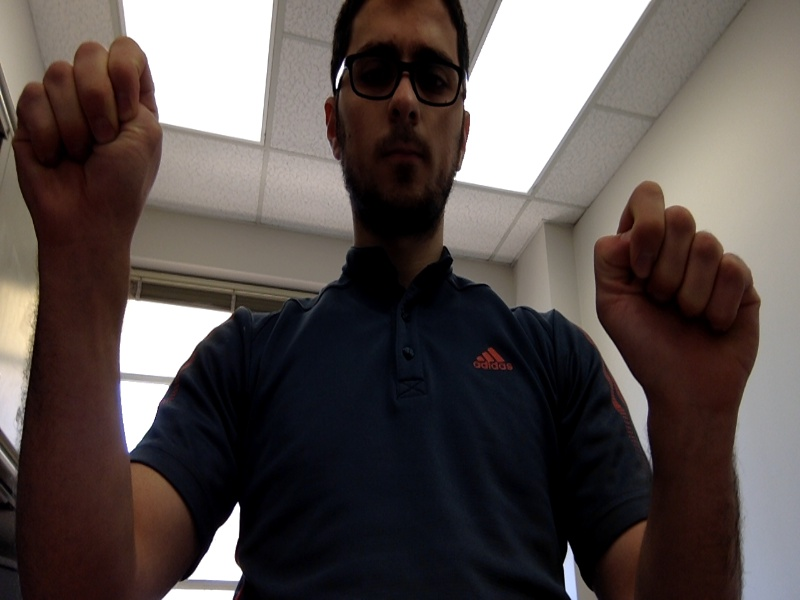0-hand: (595, 181, 760, 421), (18, 40, 161, 238)
